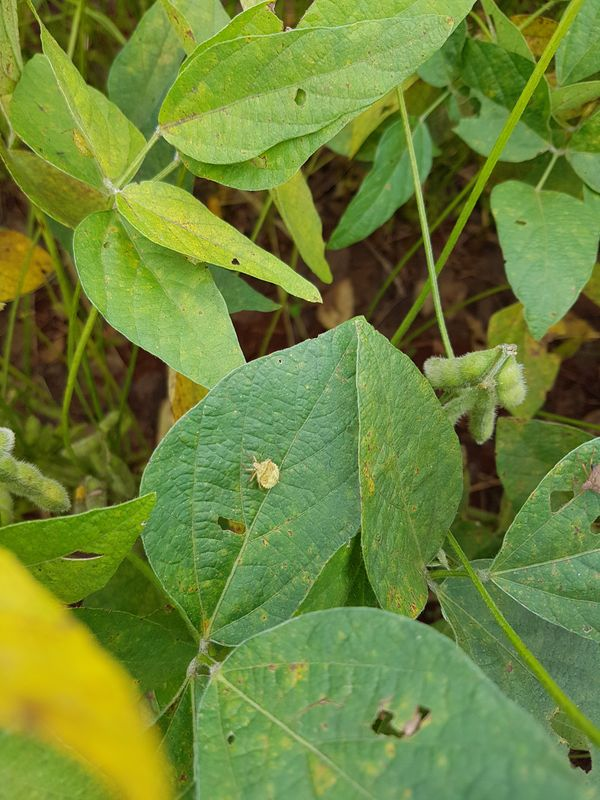Euschistus_heros_ninfa: (235, 450, 287, 498)
